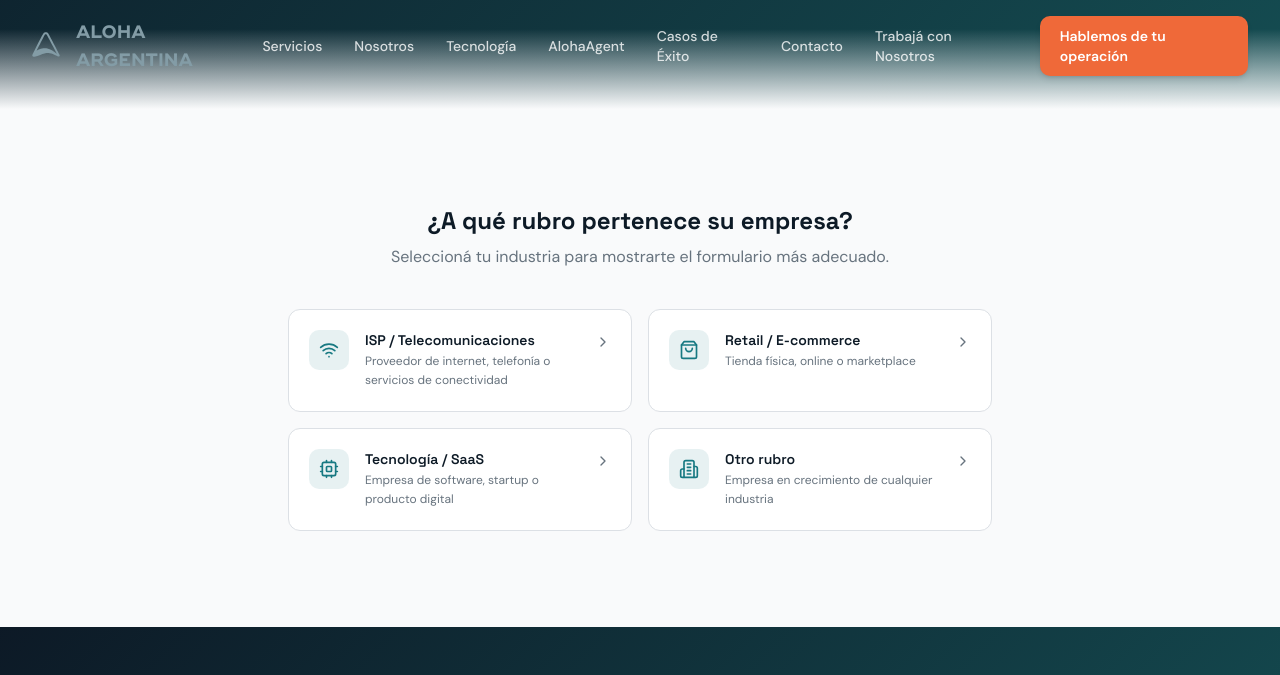
CotizarServicio › permite volver a elegir otro rubro
(page scrolled)
What coordinates should you click on to do the following:
click the button "ISP / Telecomunicaciones"
I would click on:
 (460, 360)
Its box is 288,308 -> 632,412.
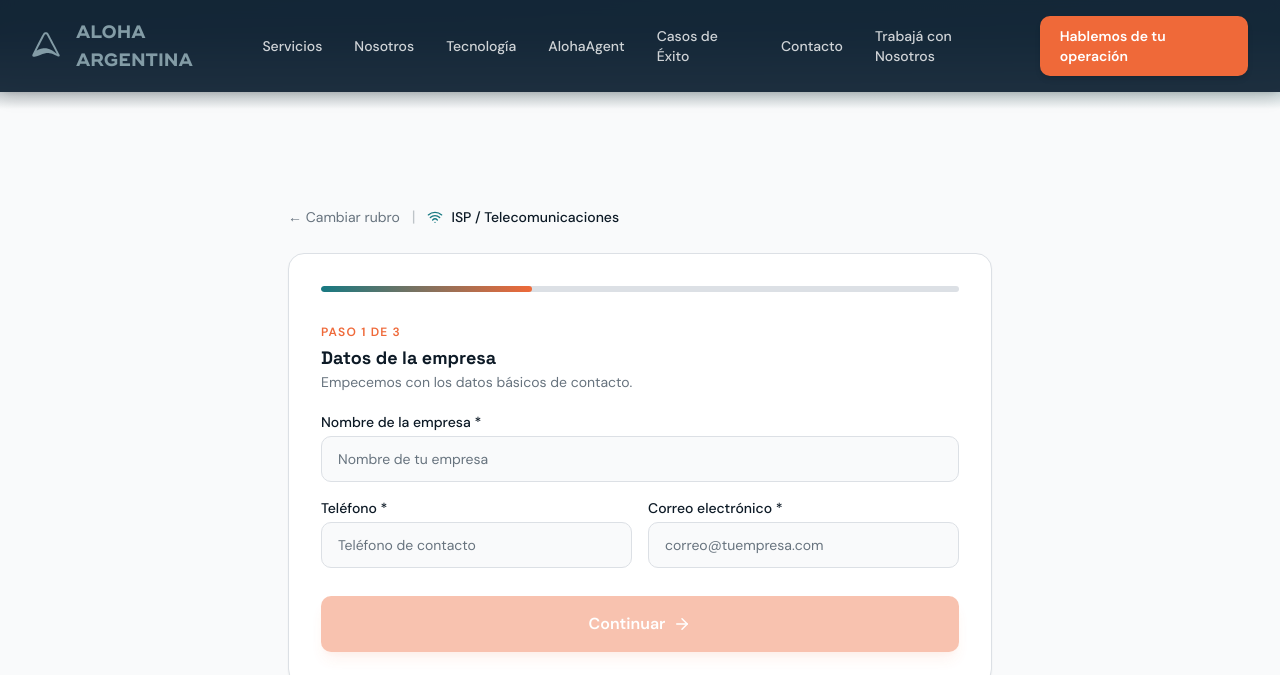
Now the heading "Datos de la empresa" is shown, box 321,346 -> 496,368
What coordinates should you click on to do the following:
click the button "← Cambiar rubro"
I would click on:
 (344, 216)
Its box is 288,206 -> 400,226.
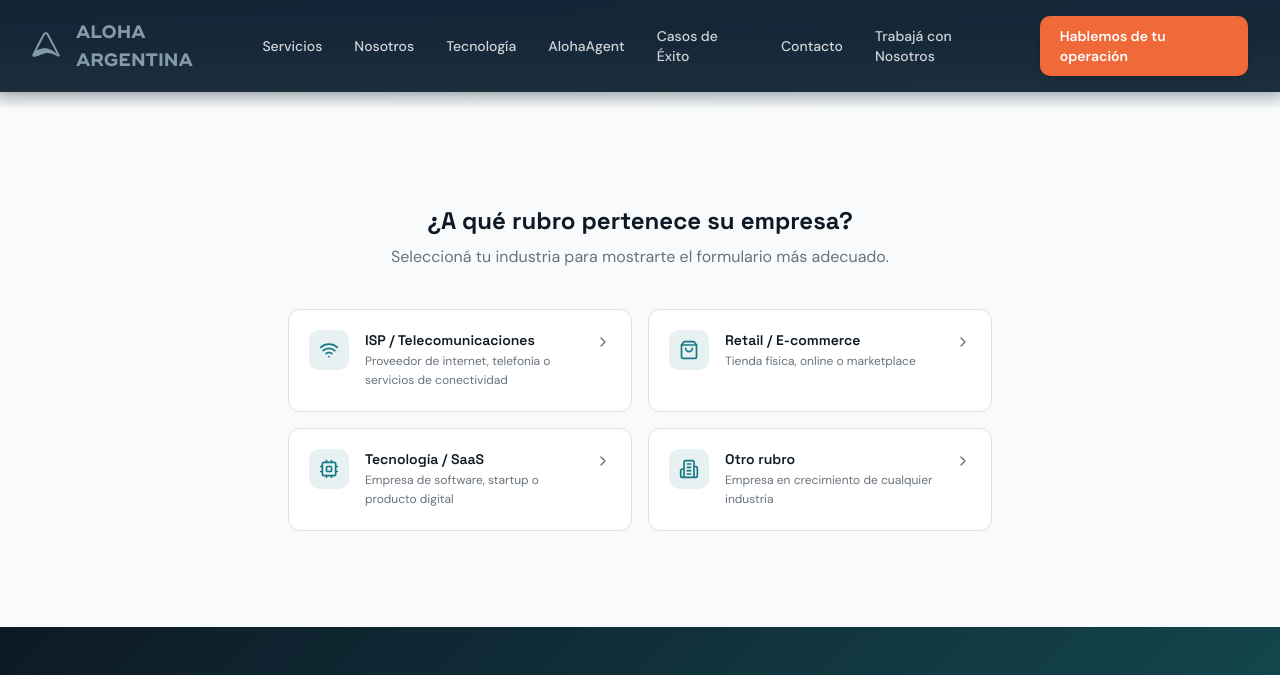
Now the heading "¿A qué rubro pertenece su empresa?" is shown, box 427,204 -> 853,236
